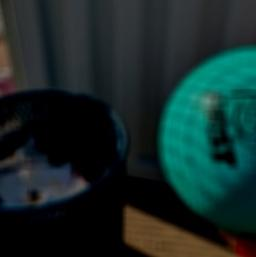algae: (157, 41, 256, 232)
